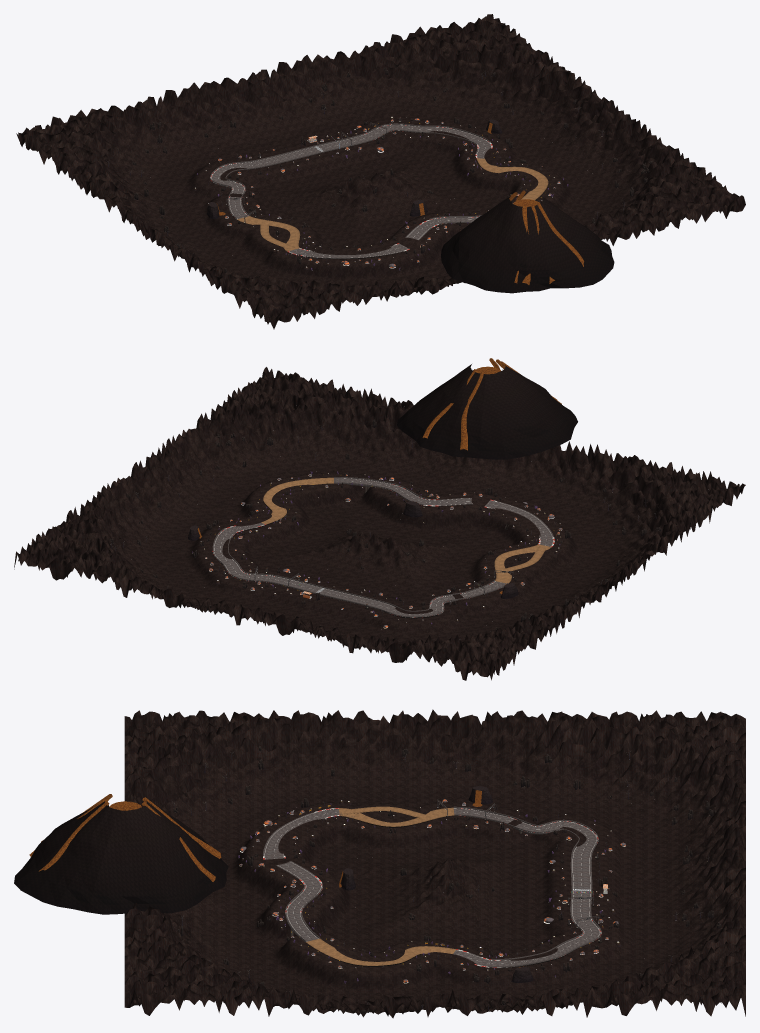
File: vulcao-rubro.glb
3 views of the same model, one above another, from view 1: azimuth 30°, elevation 25°; view 2: azimuth 150°, elevation 25°; view 3: azimuth 270°, elevation 25° (orthographic). The views are drawn at different scales.
Parts seen in each view (by area): view 1: sec6_props, terrain4, terrain2, terrain3, terrain1, terrain11, terrain0, terrain14, terrain17, terrain15, terrain10, terrain6 (+29 smaller); view 2: sec6_props, terrain28, terrain25, terrain24, terrain14, terrain23, terrain20, terrain27, terrain26, terrain15, terrain21, terrain17 (+30 smaller); view 3: sec6_props, terrain6, terrain18, terrain12, terrain24, terrain0, terrain1, terrain3, terrain15, terrain2, terrain22, terrain25 (+42 smaller).
Part boxes in pixels (x1,y1,x2,y2): sec6_props: [361, 187, 614, 293]; terrain4: [357, 25, 486, 117]; terrain2: [185, 69, 316, 158]; terrain3: [270, 50, 401, 138]; terrain1: [103, 88, 231, 177]; terrain11: [487, 50, 585, 131]; terrain0: [16, 108, 147, 177]; terrain14: [282, 171, 411, 230]; terrain17: [536, 84, 636, 167]; terrain15: [366, 152, 499, 206]; terrain10: [402, 79, 535, 151]; terrain6: [63, 160, 196, 221]; sec6_props: [369, 358, 577, 545]; terrain28: [263, 387, 394, 476]; terrain25: [519, 464, 650, 541]; terrain24: [602, 471, 735, 542]; terrain14: [335, 532, 467, 590]; terrain23: [161, 412, 262, 493]; terrain20: [384, 491, 512, 555]; terrain27: [350, 406, 468, 495]; terrain26: [439, 457, 565, 507]; terrain15: [250, 506, 382, 570]; terrain21: [300, 473, 425, 534]; terrain17: [112, 447, 213, 528]; sec6_props: [14, 794, 431, 914]; terrain6: [507, 710, 626, 807]; terrain18: [269, 710, 387, 807]; terrain12: [388, 709, 507, 807]; terrain24: [149, 710, 268, 807]; terrain0: [626, 710, 745, 803]; terrain1: [626, 761, 745, 858]; terrain3: [626, 867, 745, 958]; terrain15: [388, 885, 507, 953]; terrain2: [626, 813, 745, 908]; terrain22: [269, 943, 387, 1006]; terrain25: [149, 762, 268, 858].
Size of what is drawn, in the model's own units: 675 by 125 by 736.
Materials: 21 (13 with a texture image).
